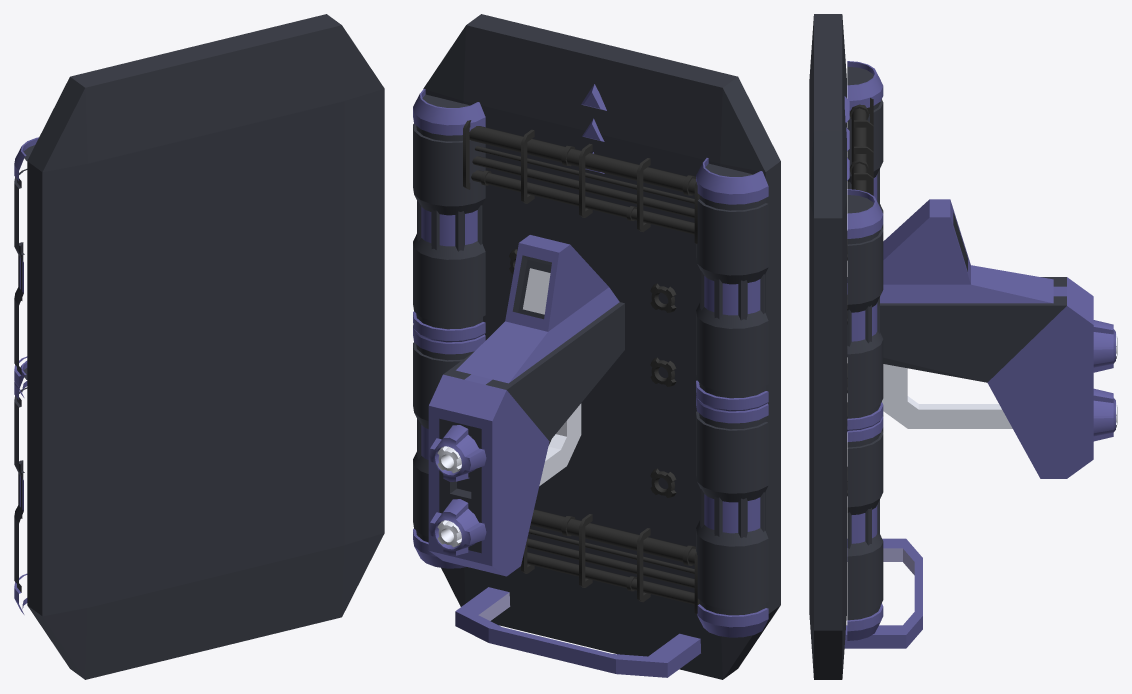
The model's file is mirror.glb.
3 views of the same model, side by side, from view 1: azimuth 30°, elevation 25°; view 2: azimuth 150°, elevation 25°; view 3: azimuth 270°, elevation 25° (orthographic). The views are drawn at different scales.
Parts seen in each view (by area): view 1: mergedBlocks(Clone); view 2: mergedBlocks(Clone); view 3: mergedBlocks(Clone).
Part boxes in pixels (x1,y1,x2,y2): mergedBlocks(Clone): [14, 14, 384, 679]; mergedBlocks(Clone): [413, 14, 780, 679]; mergedBlocks(Clone): [809, 14, 1117, 679].
Bounding box in the file's own units: 0.9914 × 1.6 × 0.8139.
